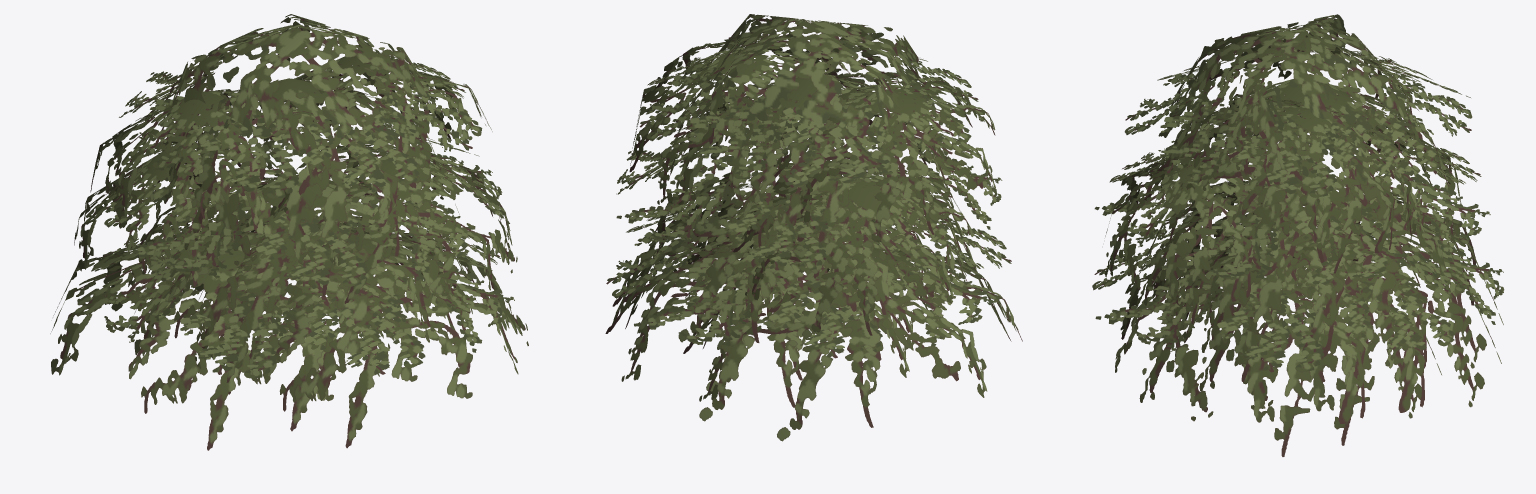
Rendered from Hawthorn_Bush.fbx.
3 renders of one model, left to right at view 1: azimuth 30°, elevation 25°; view 2: azimuth 150°, elevation 25°; view 3: azimuth 270°, elevation 25°, orthographic. The views are drawn at different scales.
Visible parts, largest first — view 1: Strawberry_3.001; view 2: Strawberry_3.001; view 3: Strawberry_3.001.
Boxes of the visible parts, x1,y1,x2,y2 form: Strawberry_3.001: (50, 14, 528, 450); Strawberry_3.001: (605, 14, 1022, 441); Strawberry_3.001: (1092, 14, 1504, 456).
Bounding box in the file's own units: 154 × 120 × 137.
